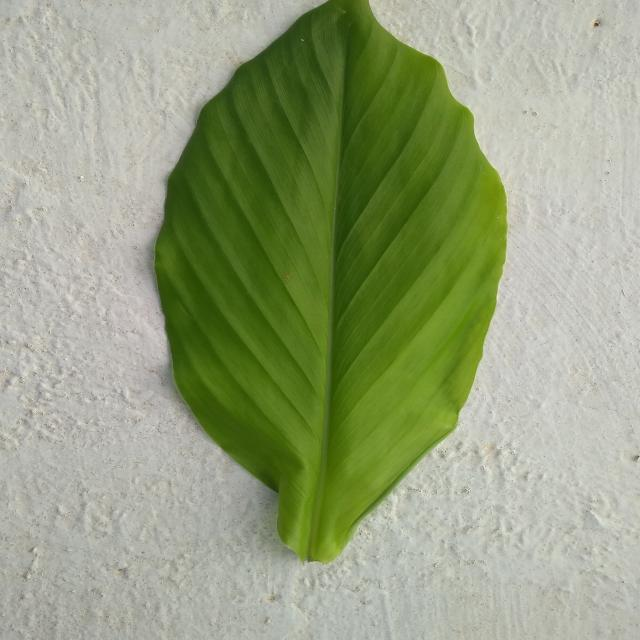turmeric: (156, 0, 507, 562)
